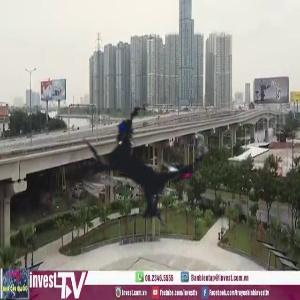drone: (27, 55, 249, 277)
